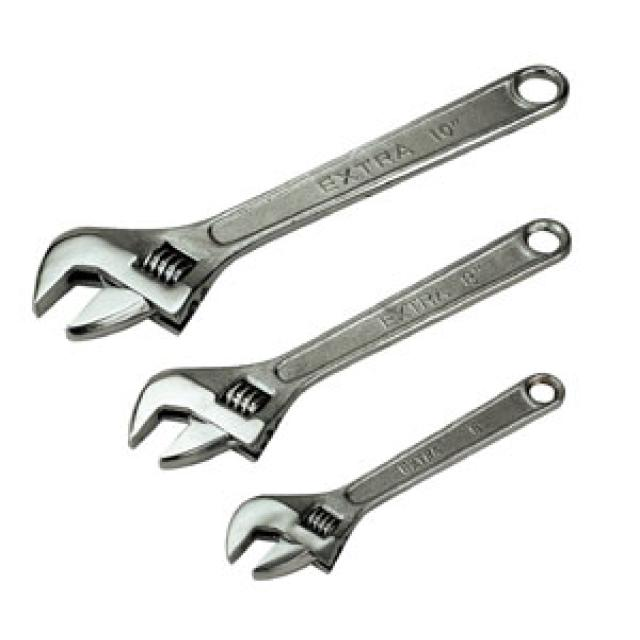wrench: (28, 160, 549, 347), (183, 394, 640, 604), (123, 330, 395, 484)
